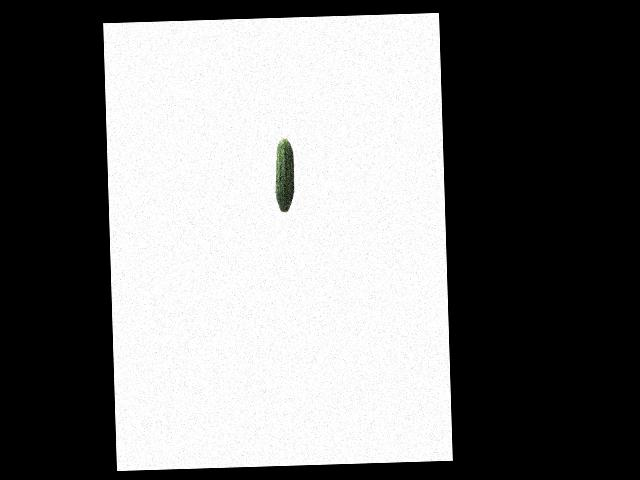cucumber: (274, 138, 295, 212)
